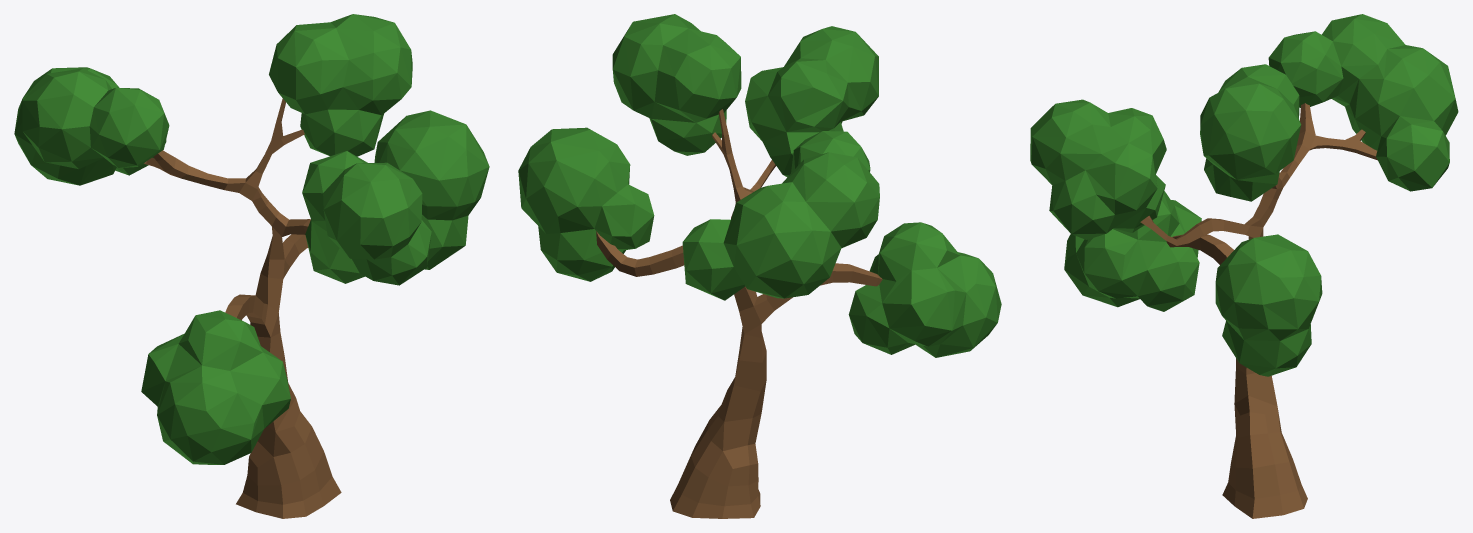
File: tree1.glb
3 views of the same model, side by side, from view 1: azimuth 30°, elevation 25°; view 2: azimuth 150°, elevation 25°; view 3: azimuth 270°, elevation 25° (orthographic). The views are drawn at different scales.
Parts seen in each view (by area): view 1: LowPoly Tree 04; view 2: LowPoly Tree 04; view 3: LowPoly Tree 04.
Part boxes in pixels (x1,y1,x2,y2): LowPoly Tree 04: (14,14,489,518); LowPoly Tree 04: (518,14,1001,518); LowPoly Tree 04: (1030,14,1458,518).
Size of the model in its own units: 3.63 by 4.08 by 3.58.
